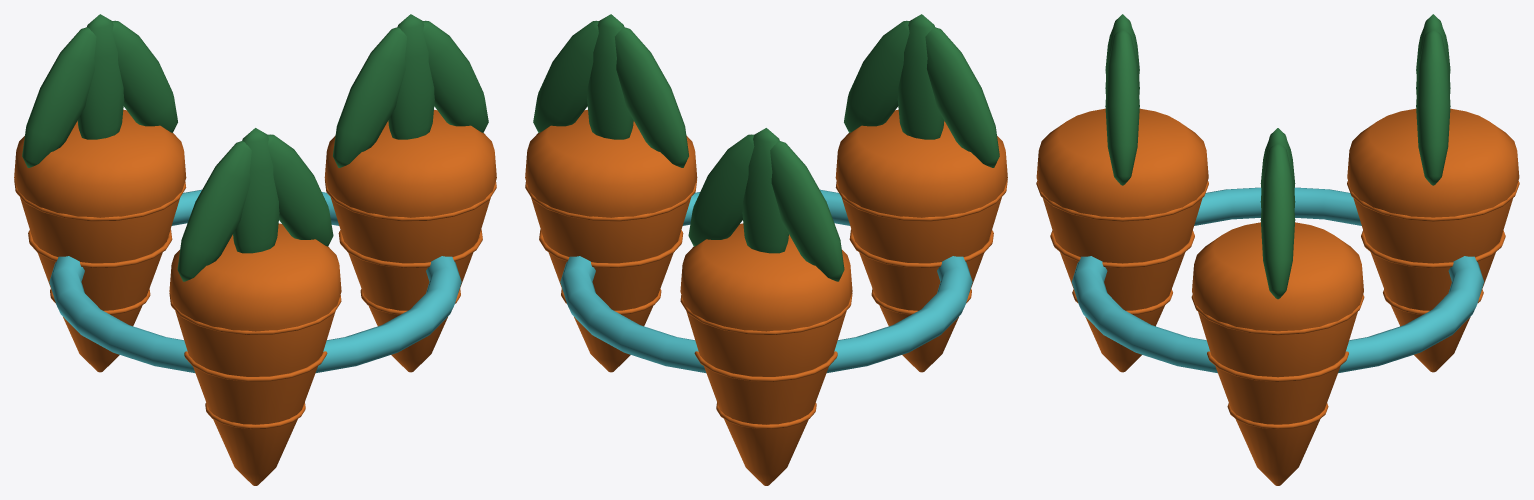
File: item-triple-carrot.glb
3 renders of one model, left to right at view 1: azimuth 30°, elevation 25°; view 2: azimuth 150°, elevation 25°; view 3: azimuth 270°, elevation 25°, orthographic.
Visible parts, largest first — view 1: Item_triple-carrot_VertexPalette; view 2: Item_triple-carrot_VertexPalette; view 3: Item_triple-carrot_VertexPalette.
Part boxes in pixels (x1,y1,x2,y2): Item_triple-carrot_VertexPalette: [14, 14, 496, 485]; Item_triple-carrot_VertexPalette: [525, 14, 1007, 485]; Item_triple-carrot_VertexPalette: [1036, 14, 1519, 485].
Size of the model in its own units: 1.32 by 1.1 by 1.35.
